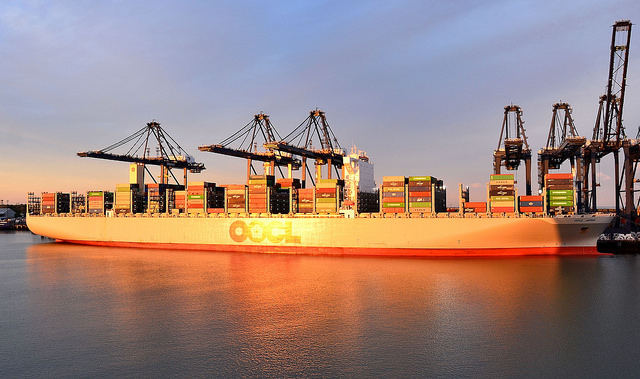container_ship: (24, 155, 613, 256)
